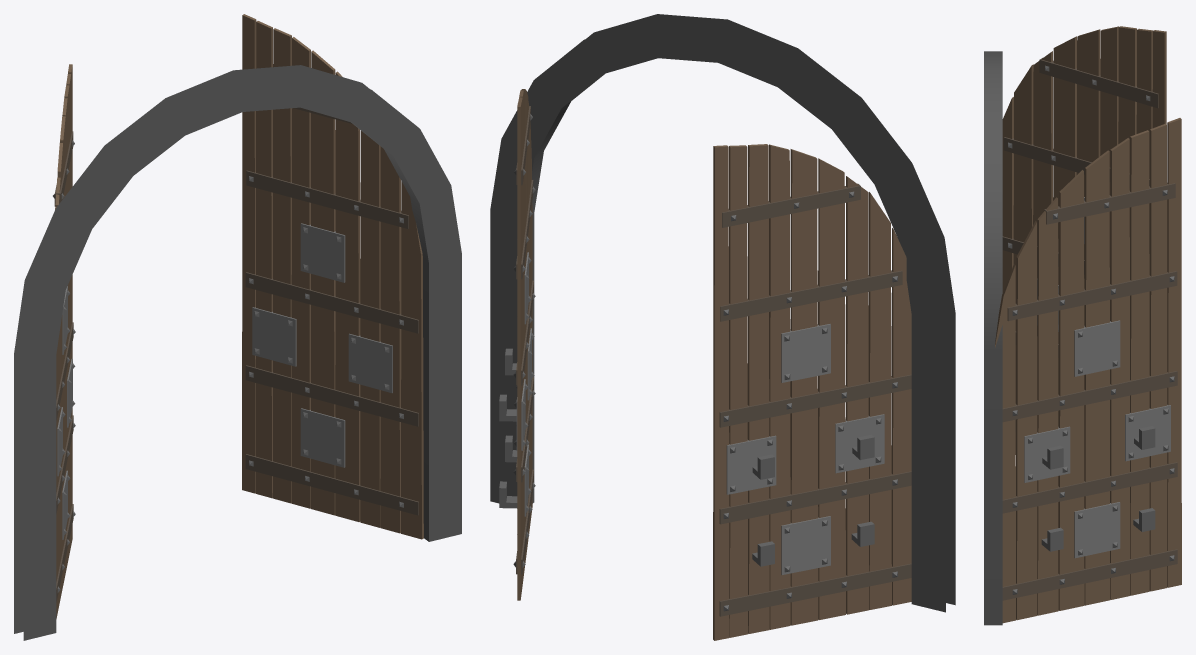
The model's file is Castle_Open_MainGate.fbx.
The picture shows the model from 3 angles, left to right: view 1: azimuth 30°, elevation 25°; view 2: azimuth 150°, elevation 25°; view 3: azimuth 270°, elevation 25°; orthographic projection. The views are drawn at different scales.
Visible parts, largest first — view 1: Castle_Open_MainGate; view 2: Castle_Open_MainGate; view 3: Castle_Open_MainGate.
Boxes of the visible parts, box(x1,y1,x2,y2) form: Castle_Open_MainGate: box(14, 14, 461, 640); Castle_Open_MainGate: box(490, 14, 955, 640); Castle_Open_MainGate: box(984, 26, 1181, 625).
Size of the model in its own units: 203 by 225 by 80.69.
